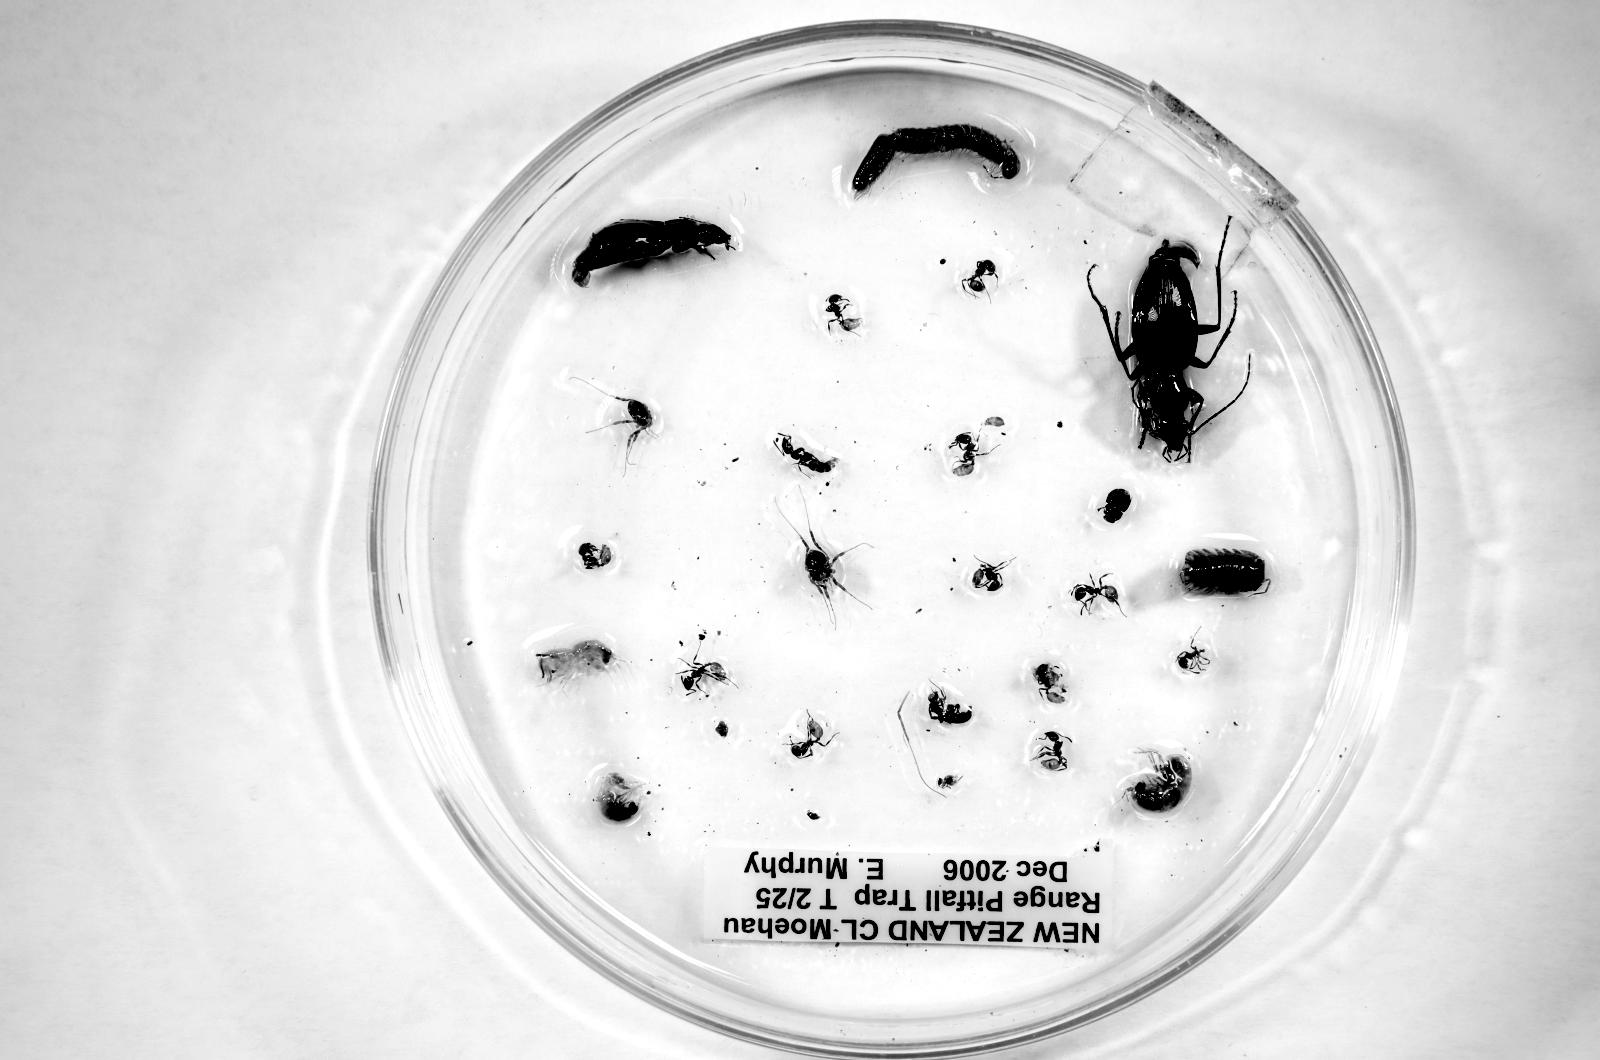amphipoda: (1120, 746, 1192, 813), (537, 639, 616, 685), (595, 771, 649, 821)
carabidae: (1089, 237, 1237, 461), (572, 218, 734, 287)
coleoptera: (1099, 487, 1132, 523)
diplopoda: (851, 124, 1019, 196)
formicidae: (801, 528, 856, 612), (779, 710, 835, 760), (773, 433, 836, 473), (1172, 626, 1212, 676), (1070, 576, 1119, 613), (1029, 659, 1067, 705), (1029, 730, 1070, 771), (679, 660, 730, 693), (928, 689, 972, 724), (824, 293, 862, 331), (960, 259, 999, 296), (948, 433, 978, 477), (970, 560, 1010, 592), (578, 543, 613, 569)
isopoda: (1180, 548, 1269, 594)
opiliones: (596, 395, 655, 466)
